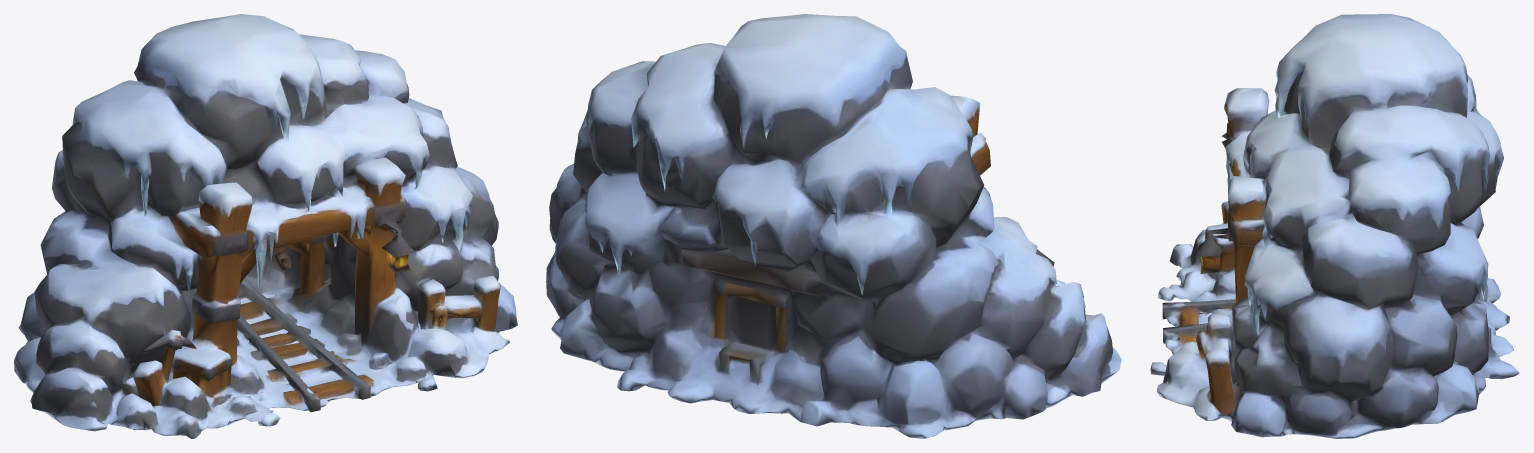
File: snowy mine tunnel 3d model_ohne.glb
3 renders of one model, left to right at view 1: azimuth 30°, elevation 25°; view 2: azimuth 150°, elevation 25°; view 3: azimuth 270°, elevation 25°, orthographic. The views are drawn at different scales.
Parts seen in each view (by area): view 1: tripo_node_c0707e4a-ef25-42b2-abda-615b5df2a998; view 2: tripo_node_c0707e4a-ef25-42b2-abda-615b5df2a998; view 3: tripo_node_c0707e4a-ef25-42b2-abda-615b5df2a998.
Part boxes in pixels (x1,y1,x2,y2): tripo_node_c0707e4a-ef25-42b2-abda-615b5df2a998: [14, 14, 517, 438]; tripo_node_c0707e4a-ef25-42b2-abda-615b5df2a998: [546, 14, 1121, 438]; tripo_node_c0707e4a-ef25-42b2-abda-615b5df2a998: [1150, 14, 1519, 438].
Size of the model in its own units: 1 by 0.6054 by 0.686.
1 material, 1 textured.
